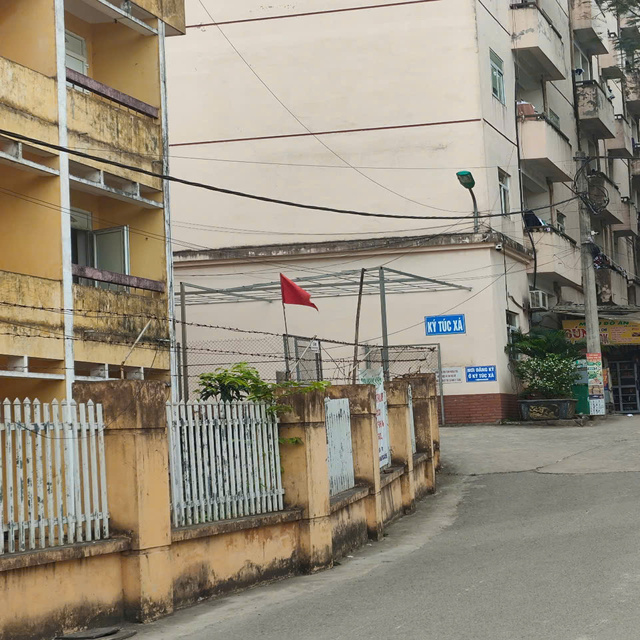laco: (277, 267, 325, 315)
